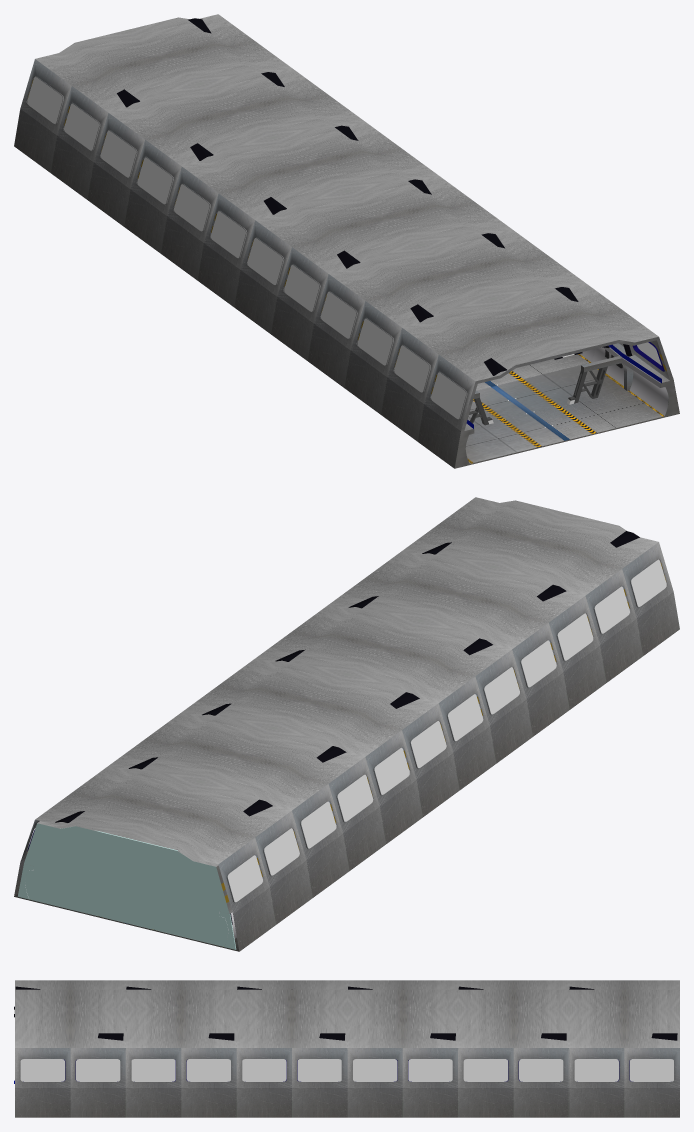
The model's file is Hangar.fbx.
The picture shows the model from 3 angles, top to bottom: view 1: azimuth 30°, elevation 25°; view 2: azimuth 150°, elevation 25°; view 3: azimuth 270°, elevation 25°; orthographic projection. The views are drawn at different scales.
Visible parts, largest first — view 1: Hangar, Hangar001, Hangar005, Hangar002, Hangar003, Hangar004; view 2: Hangar005, Hangar, Hangar001, Hangar004, Hangar003, Hangar002, Glass; view 3: Hangar004, Hangar005, Hangar002, Hangar001, Hangar003, Hangar.
Part boxes in pixels (<box>): Hangar: <box>381,283,679,468</box>; Hangar001: <box>307,229,594,414</box>; Hangar005: <box>14,14,291,199</box>; Hangar002: <box>234,175,511,360</box>; Hangar003: <box>161,122,438,307</box>; Hangar004: <box>87,68,364,253</box>; Hangar005: <box>14,766,312,951</box>; Hangar: <box>402,497,679,682</box>; Hangar001: <box>329,551,606,736</box>; Hangar004: <box>109,712,386,897</box>; Hangar003: <box>182,658,459,843</box>; Hangar002: <box>255,605,532,790</box>; Glass: <box>18,823,236,949</box>; Hangar004: <box>458,980,569,1117</box>; Hangar005: <box>568,980,679,1117</box>; Hangar002: <box>236,980,347,1117</box>; Hangar001: <box>125,980,236,1117</box>; Hangar003: <box>347,980,458,1117</box>; Hangar: <box>15,980,125,1117</box>.
Bounding box in the file's own units: 5568 × 2096 × 18883.
